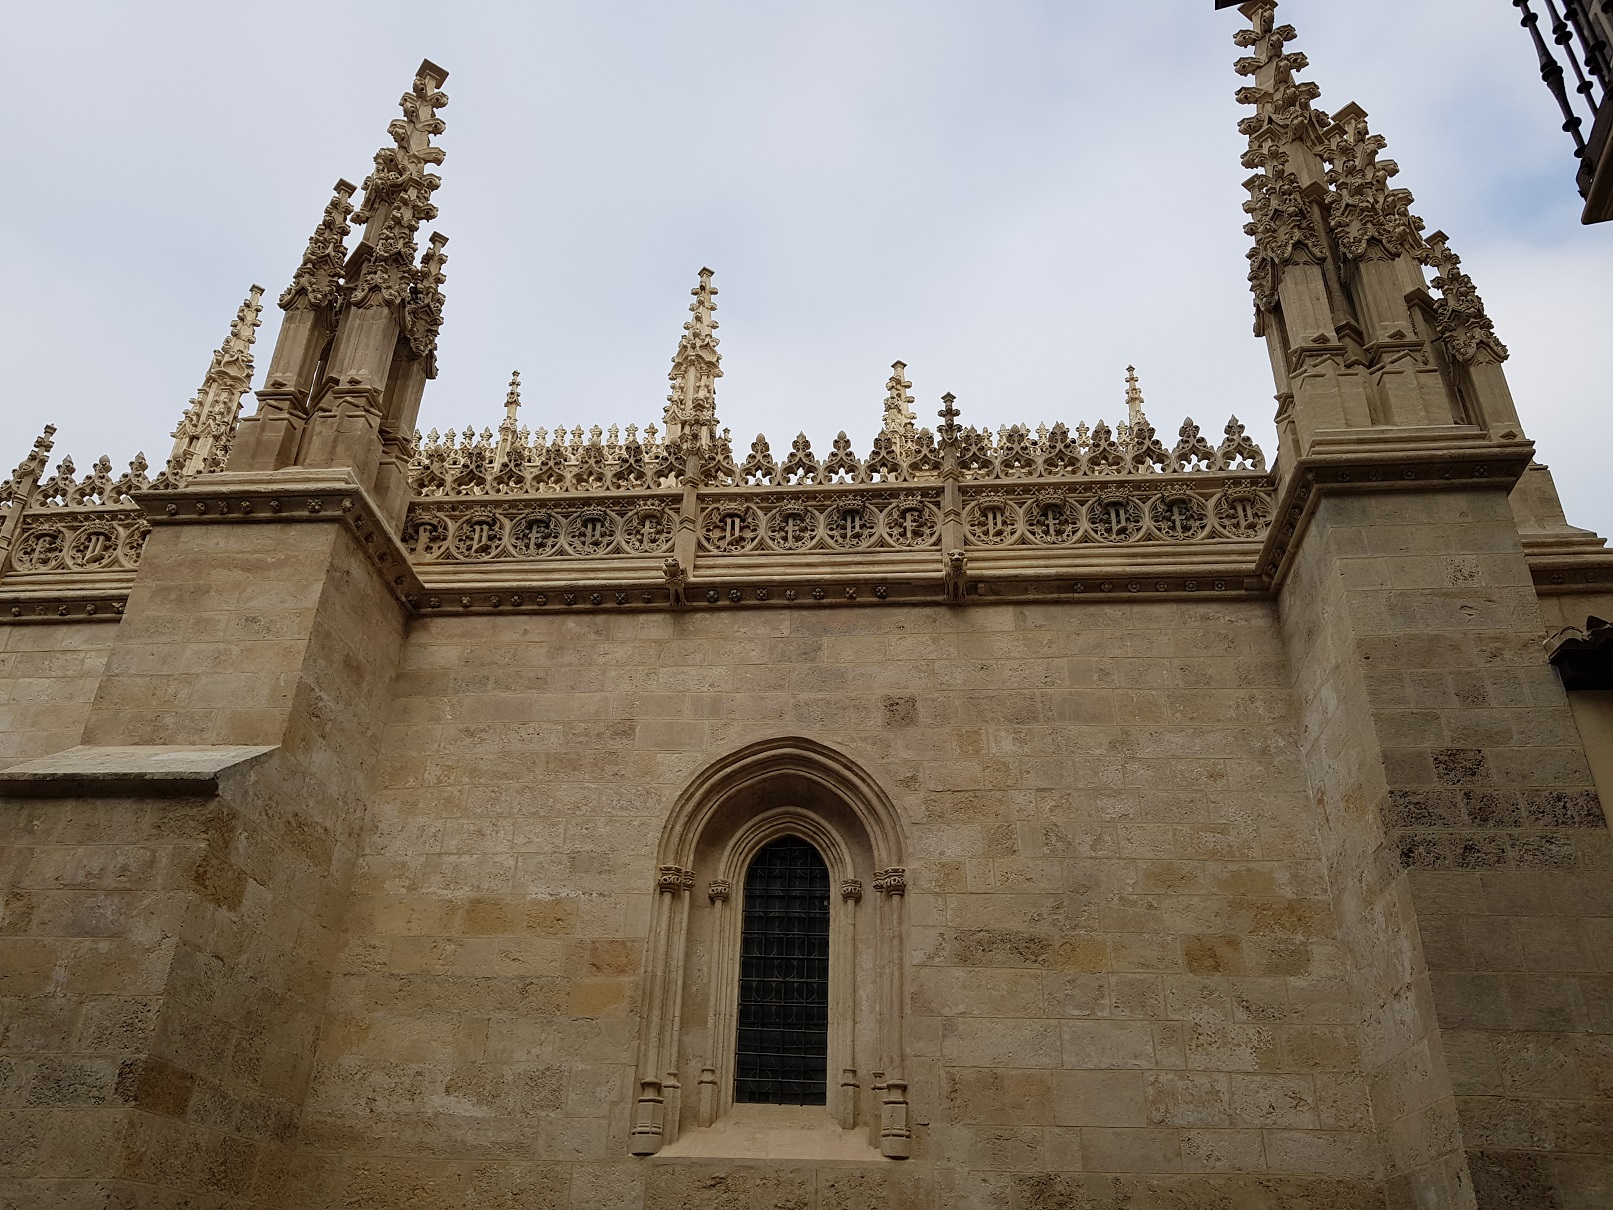arco-apuntado: (650, 722, 914, 921)
pinaculo-gotico: (1225, 1, 1436, 294), (344, 53, 458, 313), (268, 173, 364, 328), (177, 280, 271, 414), (658, 259, 727, 430), (390, 226, 456, 383), (875, 355, 919, 440)
